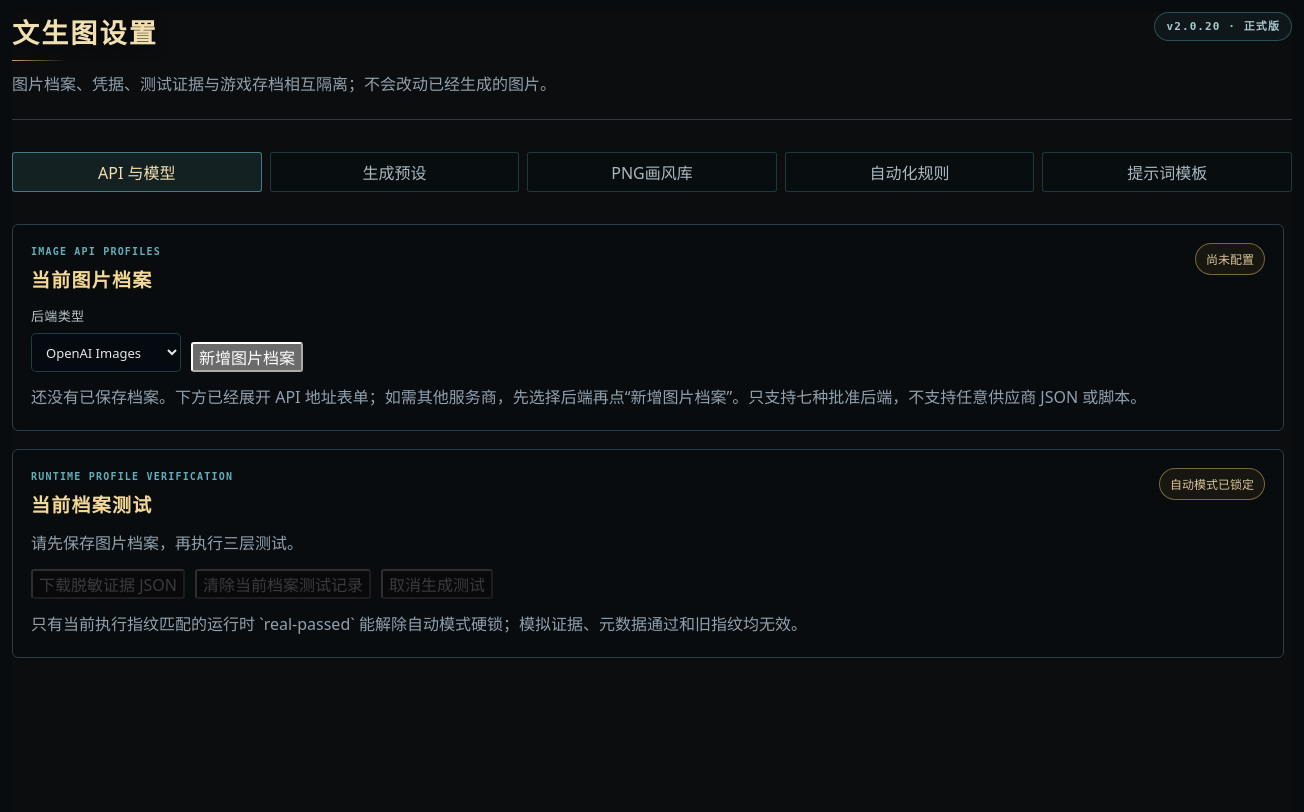
Scenario: ImageGenerationSettingsPanel › saves a character default route and an optional separate scene route
Step 1. Click the tab "自动化规则" → [910, 172], box [785,152,1034,192]
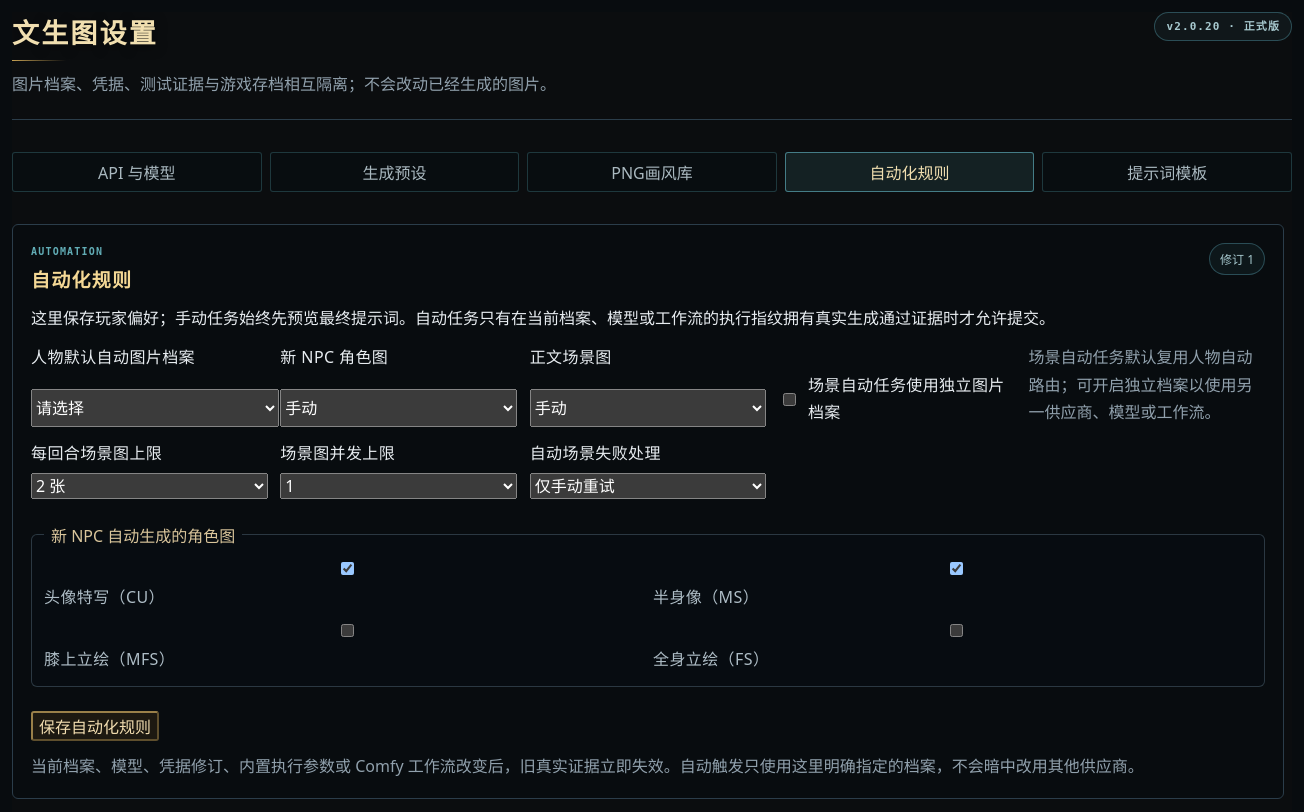
Expected: the text "场景自动任务默认复用人物自动路由；可开启独立档案以使用另一供应商、模型或工作流。" is shown, [1028,344,1265,427]
Step 2. Select "人物默认档案 · OpenAI Images" in the dropdown labelled "人物默认自动图片档案" → [155, 408], box [31,389,279,427]
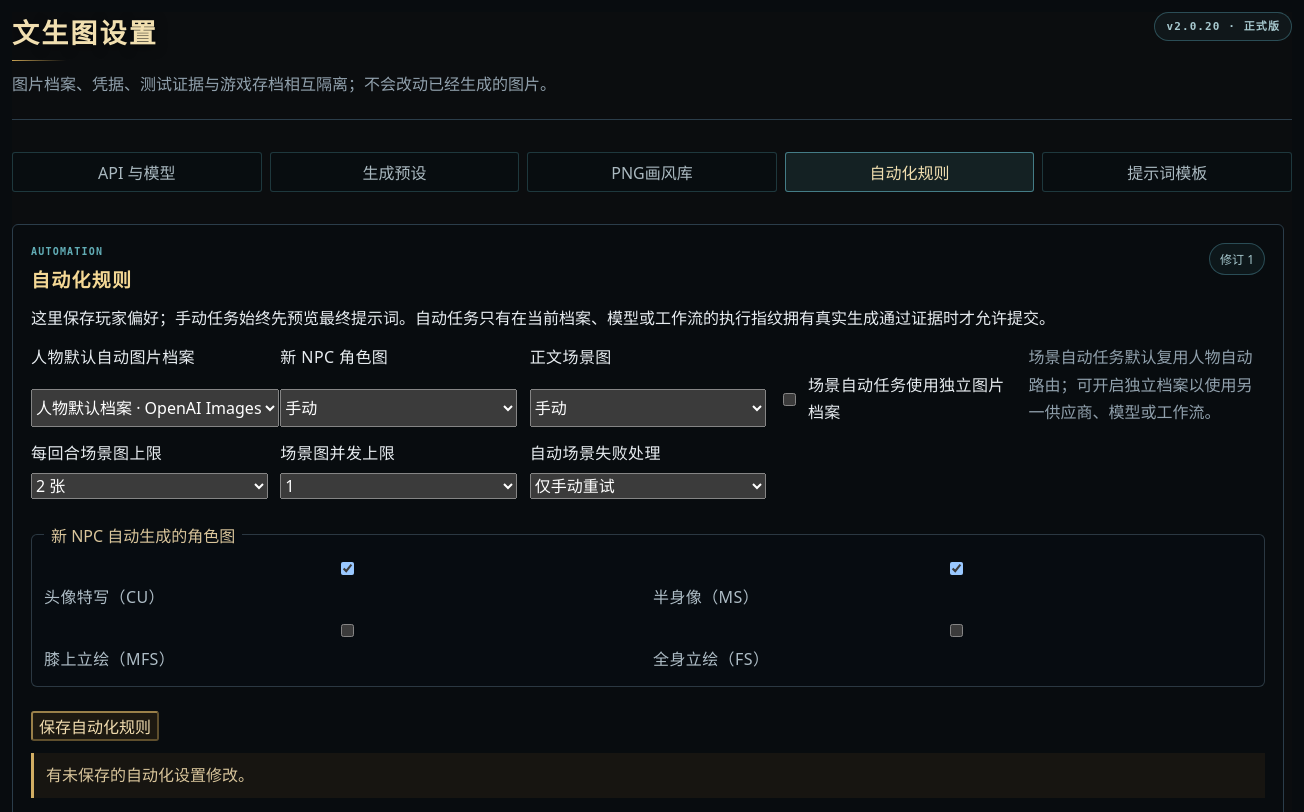
Step 3. Select "自动" in the dropdown labelled "新 NPC 角色图" → [399, 408], box [280,389,517,427]
Step 4. Select "自动" in the dropdown labelled "正文场景图" → [648, 408], box [530,389,766,427]
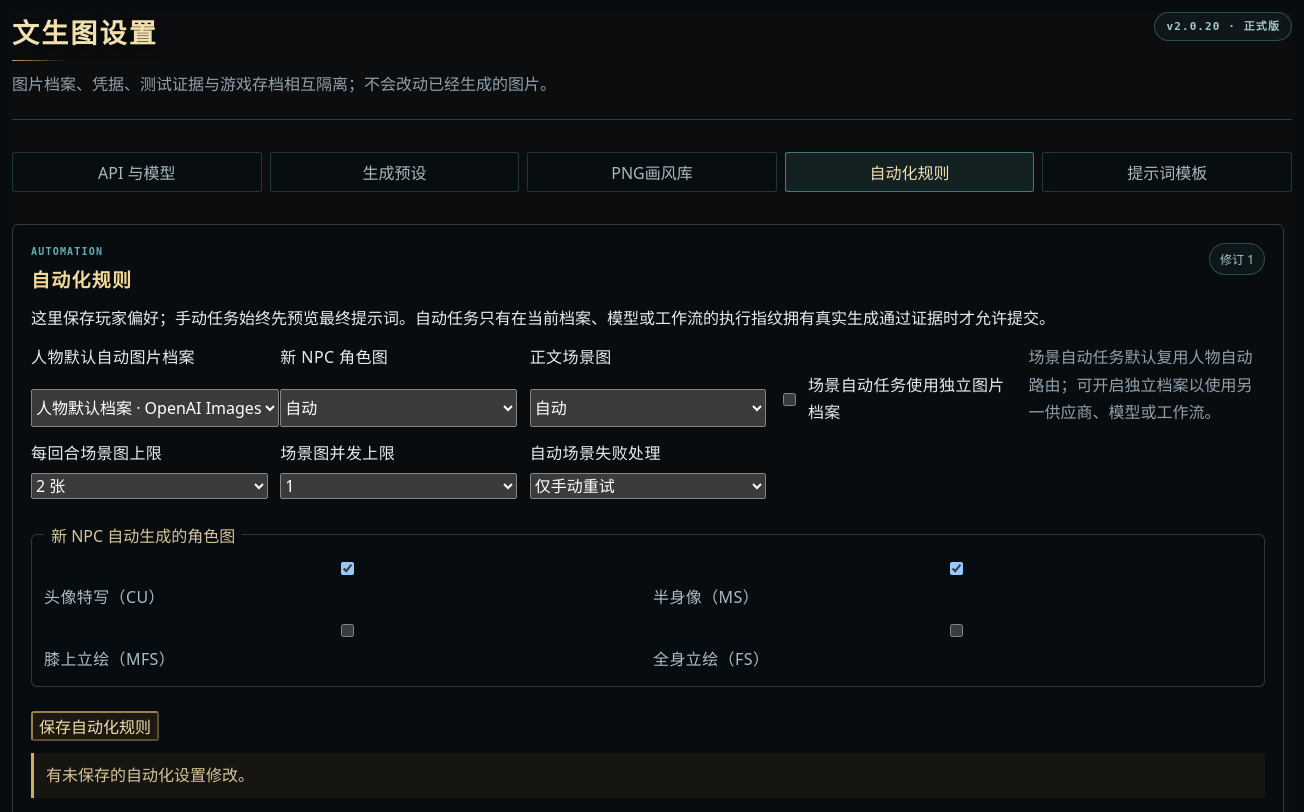
Step 5. Click the checkbox labelled "场景自动任务使用独立图片档案" → [790, 399], box [783,393,796,406]
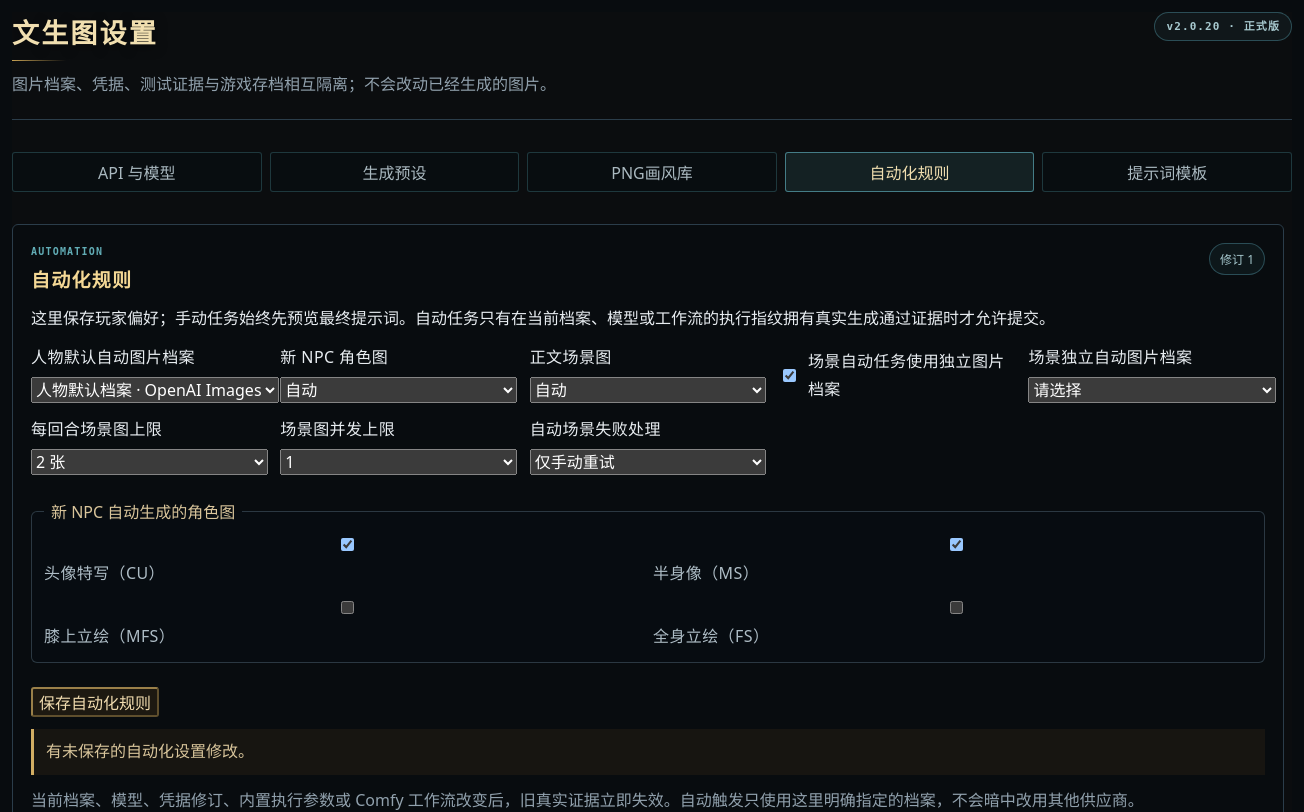
Step 6. Select "场景独立档案 · OpenAI Images" in the dropdown labelled "场景独立自动图片档案" → [1152, 390], box [1028,377,1276,403]
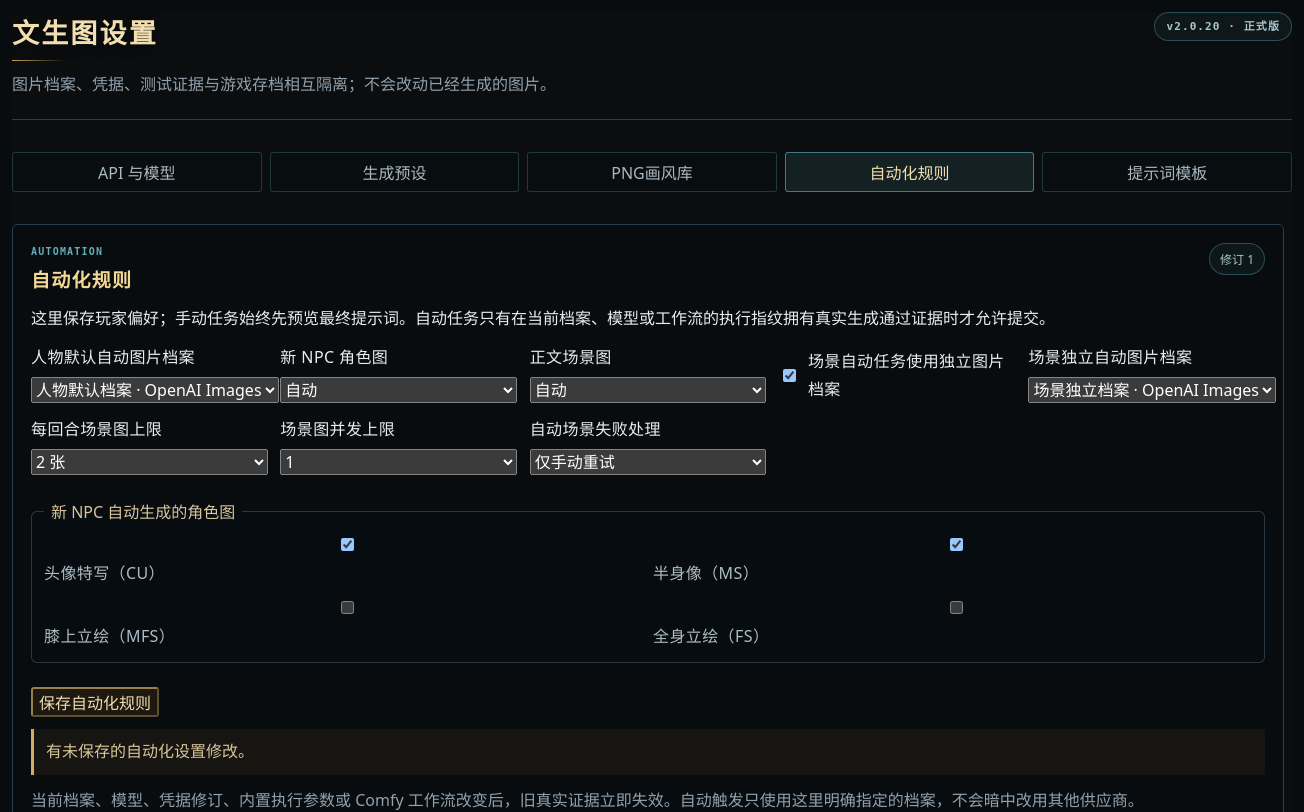
Step 7. Click the button "保存自动化规则" → [95, 702], box [31,687,159,717]
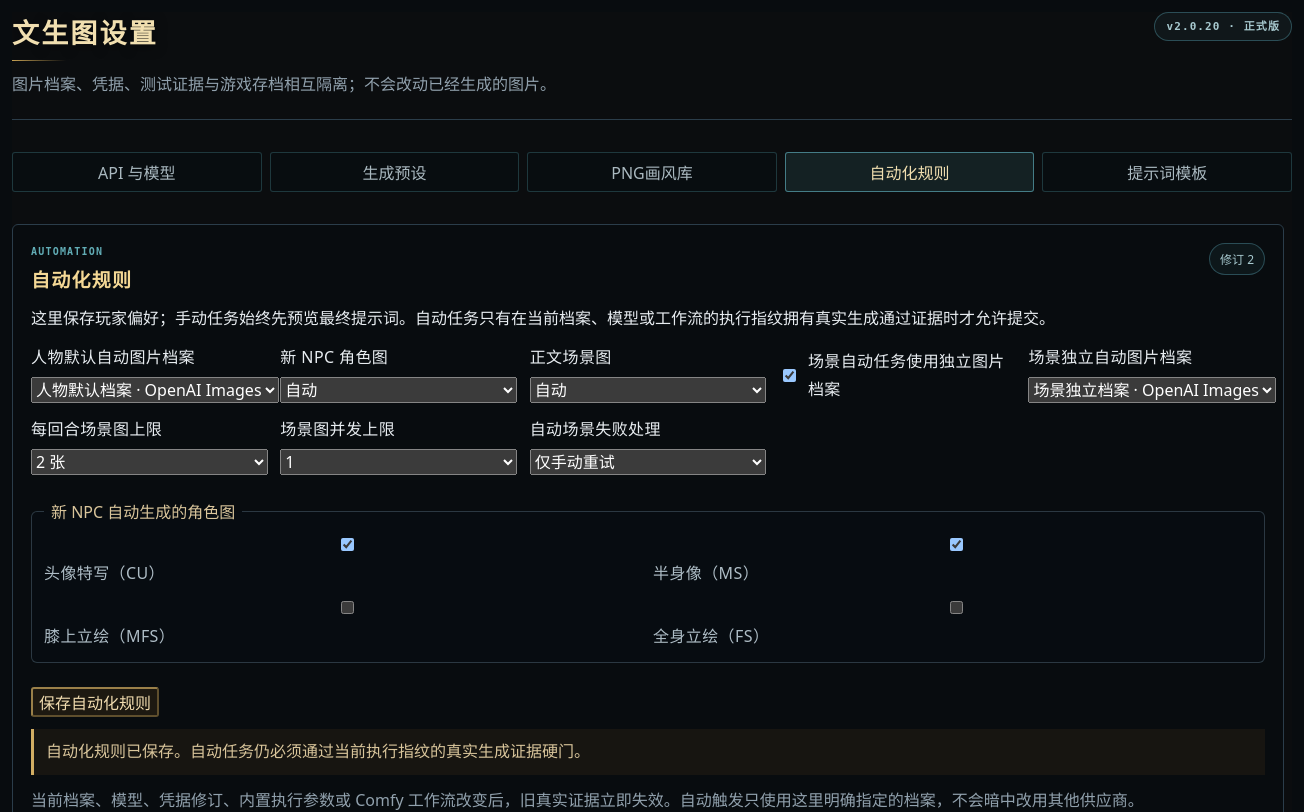
Expected: the text "自动化规则已保存。自动任务仍必须通过当前执行指纹的真实生成证据硬门。" is shown, [31,729,1265,775]
